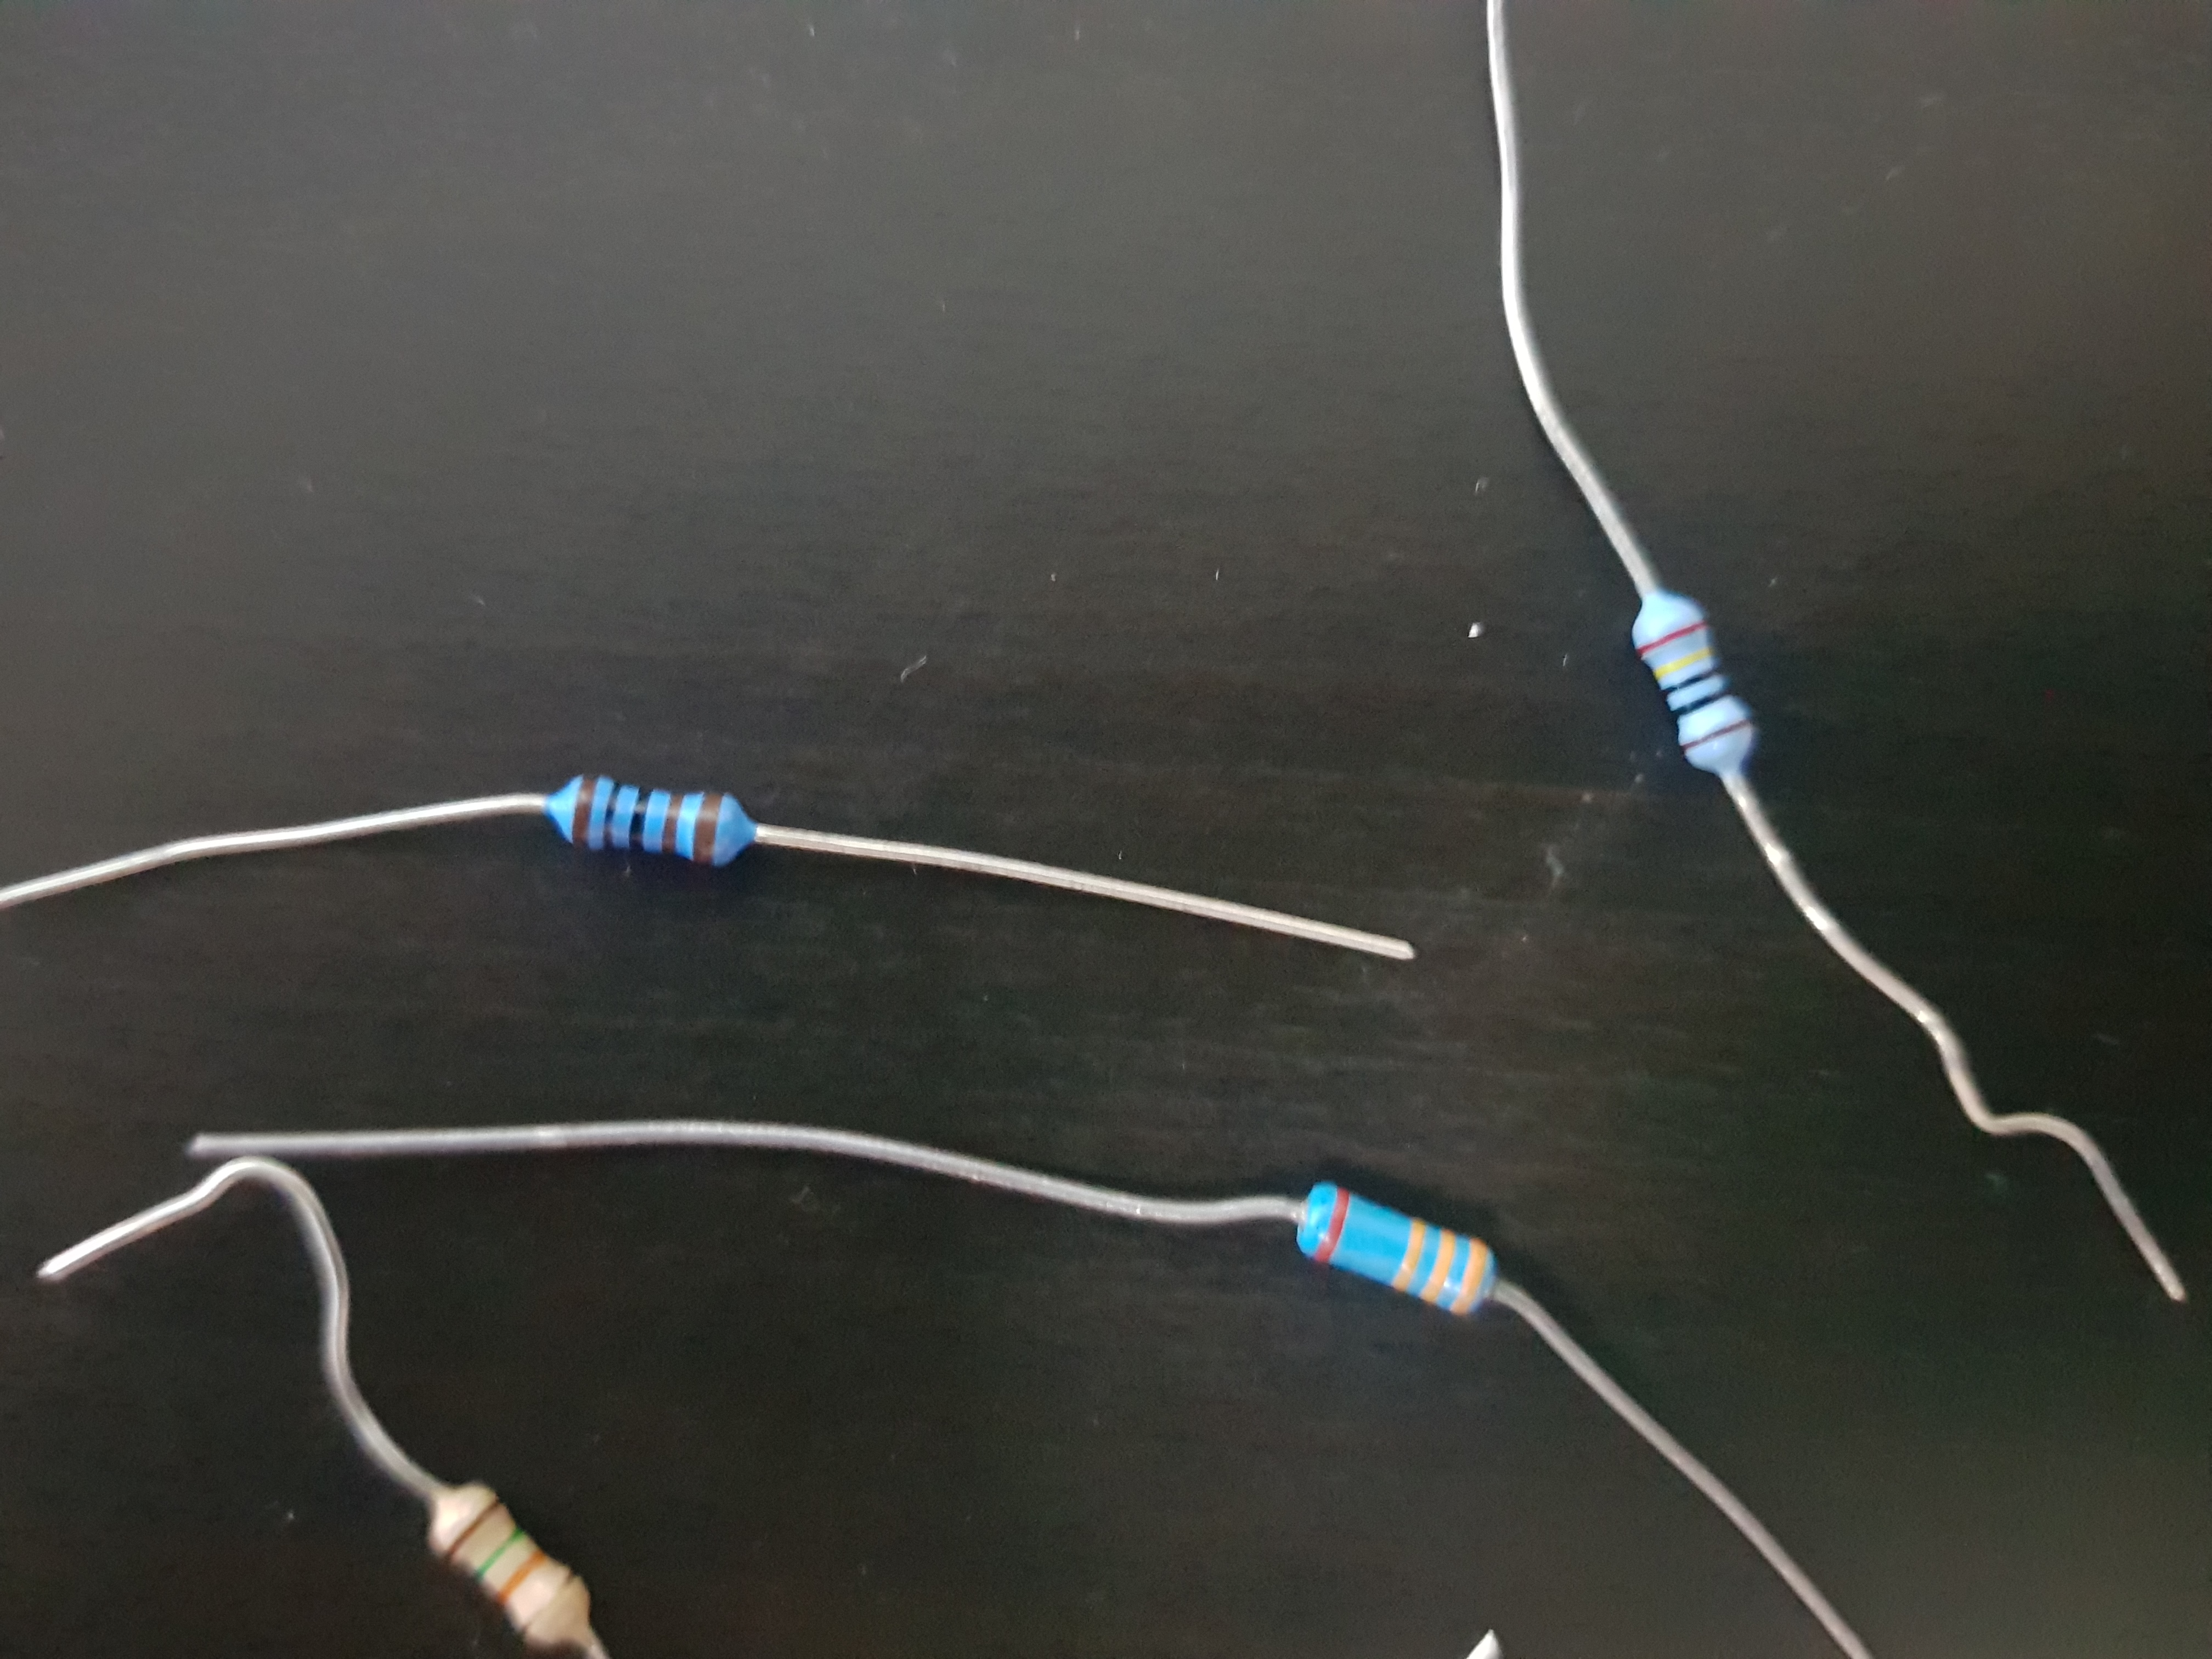resistor: (1541, 525, 1904, 871), (418, 706, 864, 981), (1205, 1124, 1648, 1387), (345, 1441, 672, 1659)
